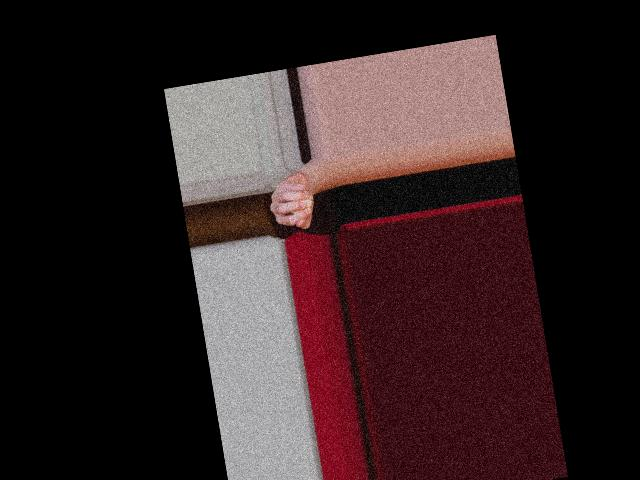egg: (286, 189, 313, 217)
